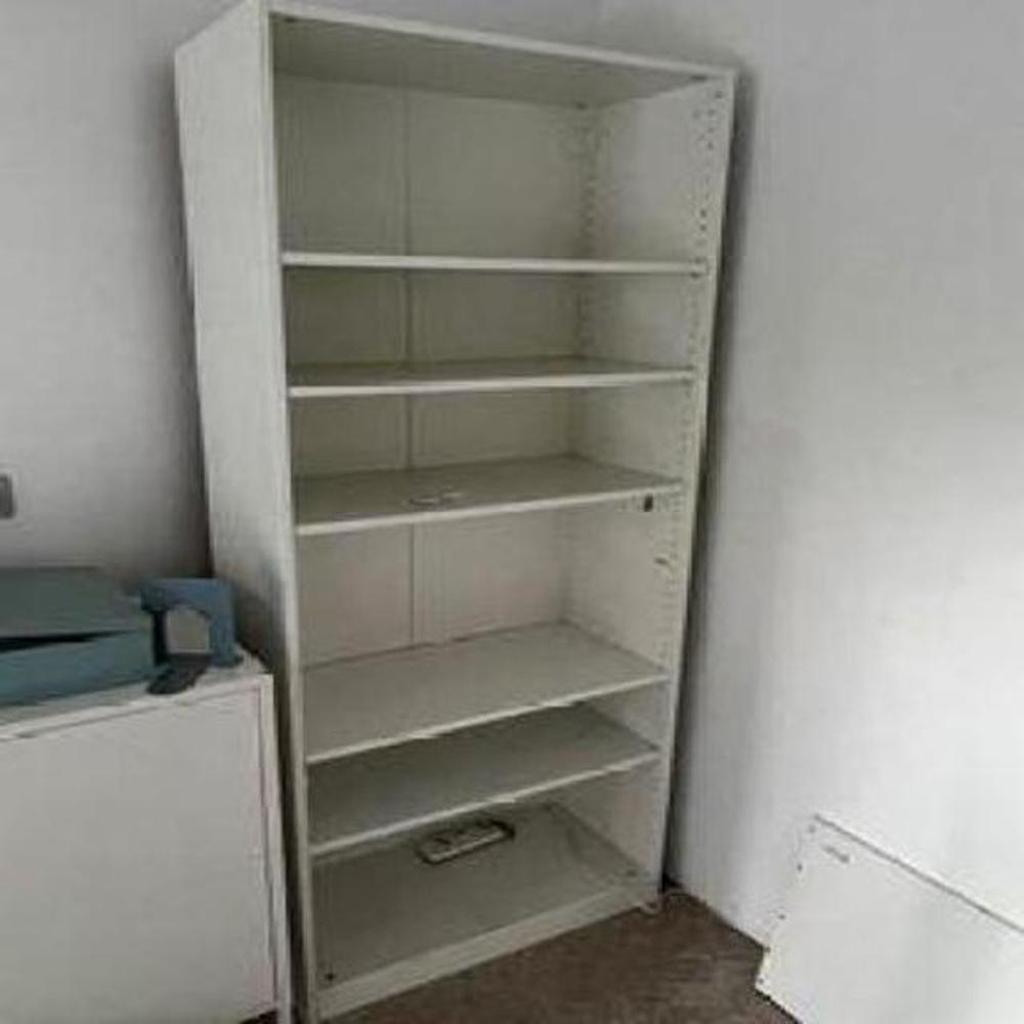lamp: (162, 1, 751, 1021)
